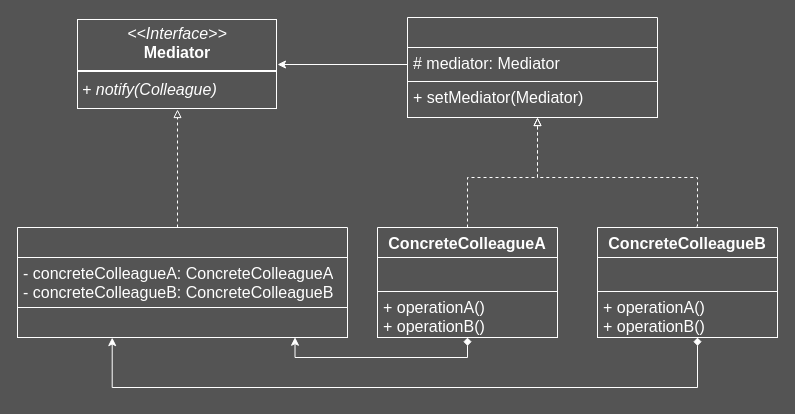
This 795x414 diagram has some shape labels left out. Each missing label, with the box of its shape:
+ notify(Colleague): (16, 306, 348, 338)
Colleague: (406, 16, 658, 118)
ConcreteMediator: (16, 226, 348, 338)
